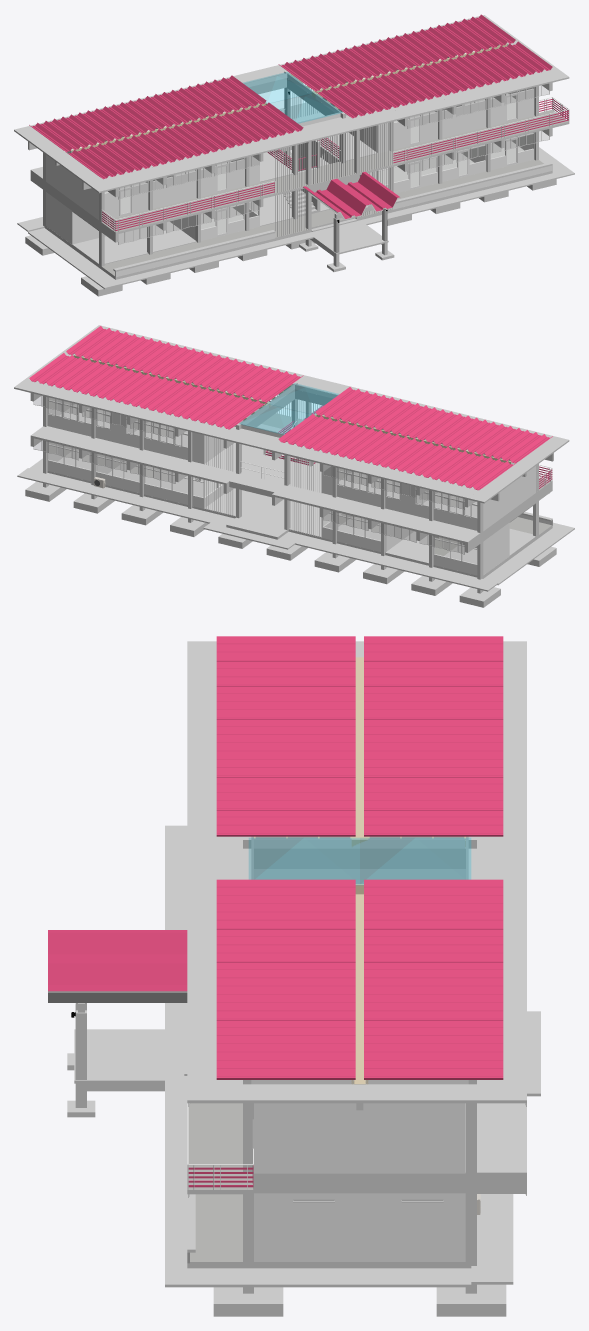
The picture shows the model from 3 angles, top to bottom: view 1: azimuth 30°, elevation 25°; view 2: azimuth 150°, elevation 25°; view 3: azimuth 270°, elevation 25°; orthographic projection. The views are drawn at different scales.
Parts seen in each view (by area): view 1: EN104RF, EN10401, EN10402; view 2: EN104RF, EN10401, EN10402; view 3: EN104RF, EN10401, EN10402.
Part boxes in pixels (left/top/right/bottom): EN104RF: left=14, top=14, right=569, bottom=219; EN10401: left=17, top=115, right=574, bottom=296; EN10402: left=28, top=19, right=569, bottom=242; EN104RF: left=14, top=325, right=569, bottom=503; EN10401: left=17, top=421, right=574, bottom=607; EN10402: left=30, top=329, right=553, bottom=552; EN104RF: left=48, top=636, right=526, bottom=1103; EN10401: left=67, top=825, right=540, bottom=1316; EN10402: left=187, top=657, right=526, bottom=1201.
Bounding box in the file's own units: 38.39 × 9.95 × 17.42.
